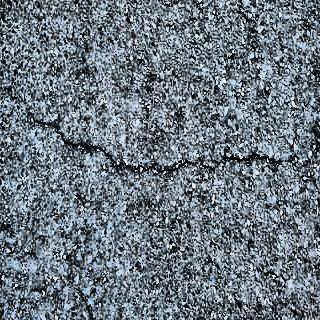crack: (20, 114, 288, 174)
